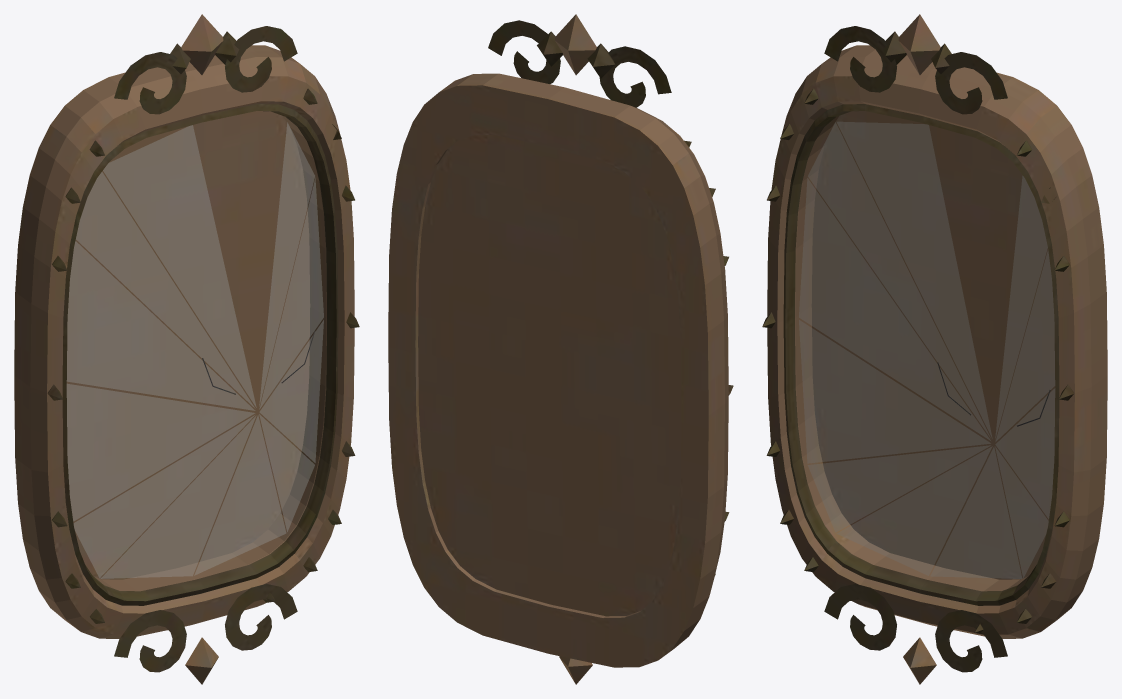
The model's file is L23_wall_mirror_v2.glb.
3 renders of one model, left to right at view 1: azimuth 30°, elevation 25°; view 2: azimuth 150°, elevation 25°; view 3: azimuth 330°, elevation 25°, orthographic.
Visible parts, largest first — view 1: Carved structural frame; view 2: Carved structural frame; view 3: Carved structural frame.
Boxes of the visible parts, x1,y1,x2,y2 form: Carved structural frame: [14, 14, 359, 684]; Carved structural frame: [388, 14, 733, 684]; Carved structural frame: [762, 14, 1107, 684].
Size of the model in its own units: 0.5 by 1 by 0.1.
Materials: 4 (3 with a texture image).
